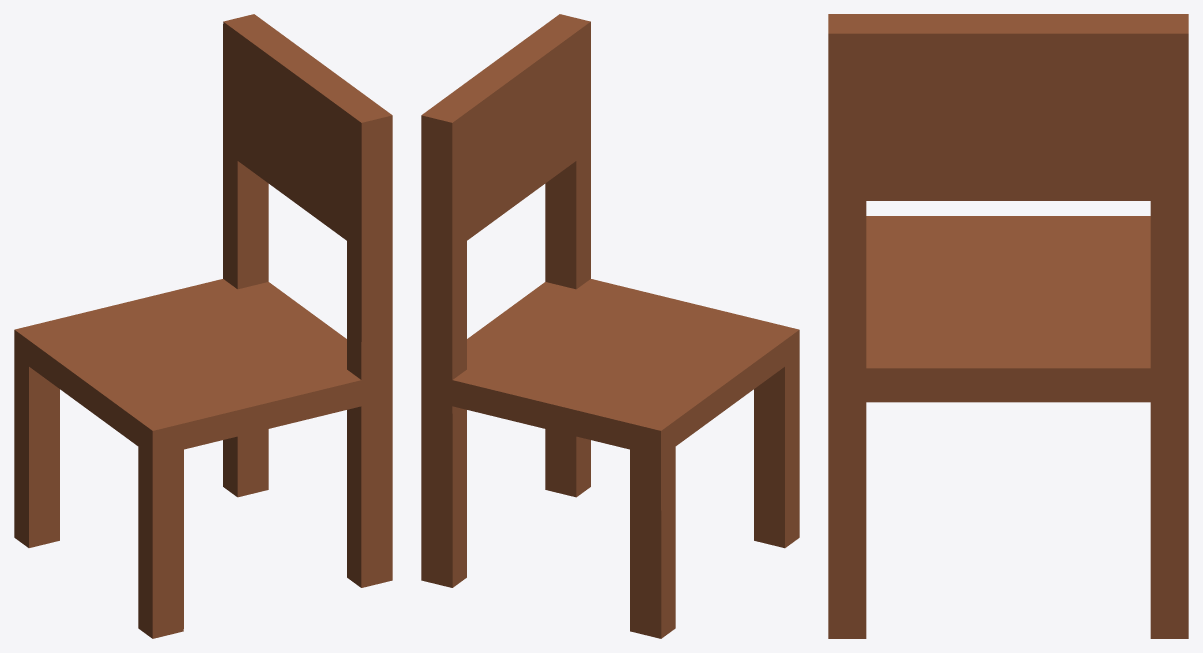
Rendered from Kursi.fbx.
3 renders of one model, left to right at view 1: azimuth 30°, elevation 25°; view 2: azimuth 150°, elevation 25°; view 3: azimuth 270°, elevation 25°, orthographic. The views are drawn at different scales.
Parts seen in each view (by area): view 1: Cube.002; view 2: Cube.002; view 3: Cube.002.
Part boxes in pixels (bbox=[...]): Cube.002: bbox=[14, 14, 392, 638]; Cube.002: bbox=[421, 14, 799, 638]; Cube.002: bbox=[828, 14, 1188, 638].
Size of the model in its own units: 61.74 by 114 by 61.71.
